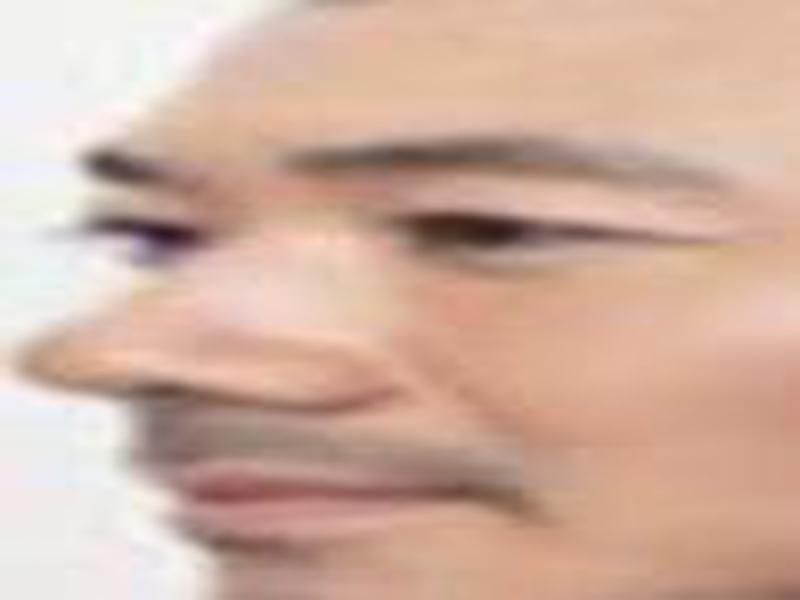without_mask: (6, 2, 800, 600)
